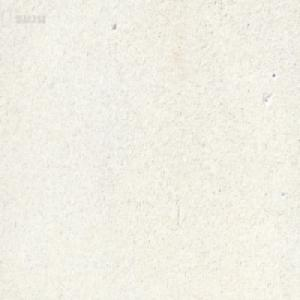Wrench: (171, 0, 178, 5)
